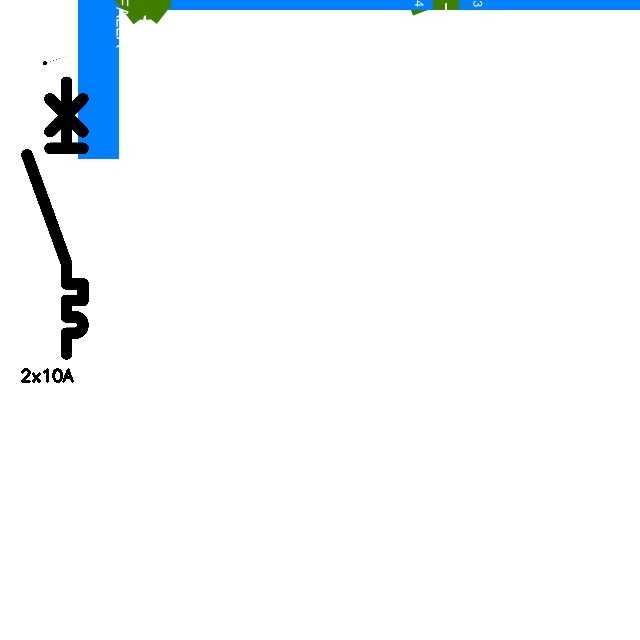interruptor_termomagnetico: (20, 75, 90, 361)
